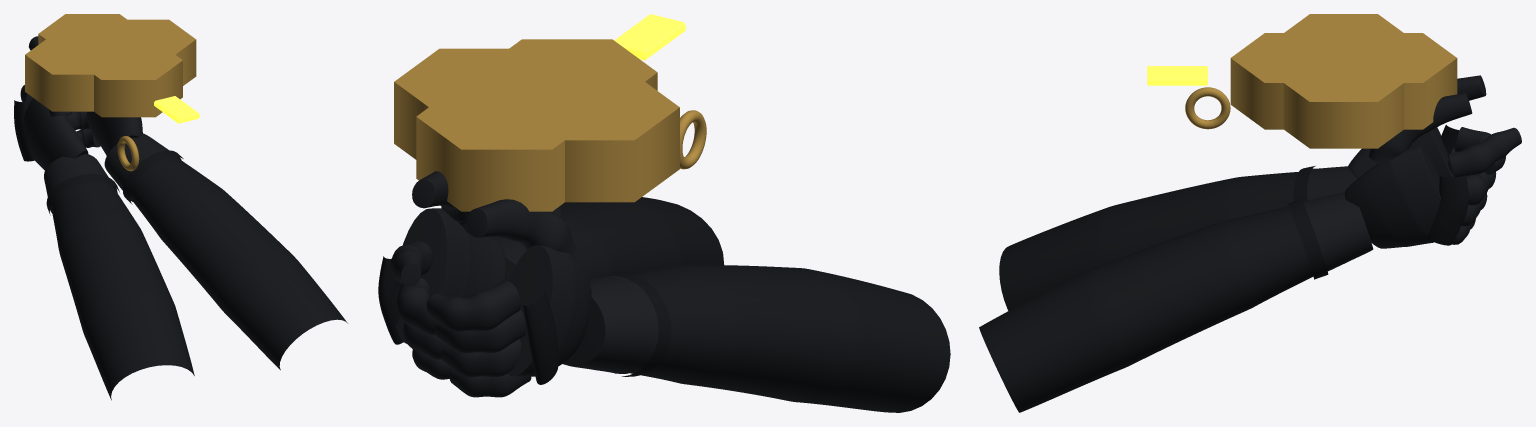
The model's file is hands_forge_pistol.glb.
3 views of the same model, side by side, from view 1: azimuth 30°, elevation 25°; view 2: azimuth 150°, elevation 25°; view 3: azimuth 270°, elevation 25° (orthographic). The views are drawn at different scales.
Visible parts, largest first — view 1: hand_r_forearm, hand_l_forearm, hand_l_bolts, hand_l_palm, hand_r_palm, hand_l_cuff, hand_r_cuff, hand_r_lamp, hand_r_cuff_strap, hand_l_knuckle_panel, hand_l_cuff_strap, hand_l_tool_loop (+1 smaller); view 2: hand_l_bolts, hand_l_forearm, hand_r_forearm, hand_l_cuff, hand_l_palm, hand_r_palm, hand_l_thumb, hand_l_index, hand_l_knuckle_panel, hand_l_middle, hand_l_ring, hand_r_lamp (+10 smaller); view 3: hand_r_forearm, hand_l_bolts, hand_l_forearm, hand_r_palm, hand_r_cuff, hand_r_knuckle_panel, hand_r_index, hand_r_thumb, hand_l_palm, hand_r_cuff_strap, hand_l_cuff, hand_r_lamp (+4 smaller).
Boxes of the visible parts, <box> form: hand_r_forearm: <box>130,157,347,370</box>; hand_l_forearm: <box>51,182,194,400</box>; hand_l_bolts: <box>25,14,196,117</box>; hand_l_palm: <box>24,98,88,170</box>; hand_r_palm: <box>86,111,142,155</box>; hand_l_cuff: <box>44,154,117,213</box>; hand_r_cuff: <box>104,133,181,201</box>; hand_r_lamp: <box>154,96,199,123</box>; hand_r_cuff_strap: <box>123,150,183,204</box>; hand_l_knuckle_panel: <box>14,100,34,161</box>; hand_l_cuff_strap: <box>46,174,119,215</box>; hand_l_tool_loop: <box>117,136,139,171</box>; hand_l_bolts: <box>394,39,679,211</box>; hand_l_forearm: <box>619,265,950,412</box>; hand_r_forearm: <box>560,197,724,279</box>; hand_l_cuff: <box>563,275,658,373</box>; hand_l_palm: <box>507,245,591,376</box>; hand_r_palm: <box>396,208,506,343</box>; hand_l_thumb: <box>466,199,576,257</box>; hand_l_index: <box>426,280,520,331</box>; hand_l_knuckle_panel: <box>523,288,558,384</box>; hand_l_middle: <box>434,309,526,353</box>; hand_l_ring: <box>441,339,521,377</box>; hand_r_lamp: <box>614,14,685,60</box>; hand_r_forearm: <box>979,206,1313,412</box>; hand_l_bolts: <box>1230,14,1457,148</box>; hand_l_forearm: <box>999,172,1298,310</box>; hand_r_palm: <box>1344,144,1460,248</box>; hand_r_cuff: <box>1303,192,1373,271</box>; hand_r_knuckle_panel: <box>1427,175,1468,245</box>; hand_r_index: <box>1447,127,1521,177</box>; hand_r_thumb: <box>1368,93,1472,165</box>; hand_l_palm: <box>1348,127,1453,178</box>; hand_r_cuff_strap: <box>1288,199,1328,279</box>; hand_l_cuff: <box>1307,166,1356,200</box>; hand_r_lamp: <box>1147,66,1207,85</box>.
Bounding box in the file's own units: 0.2176 × 0.2351 × 0.3592.
